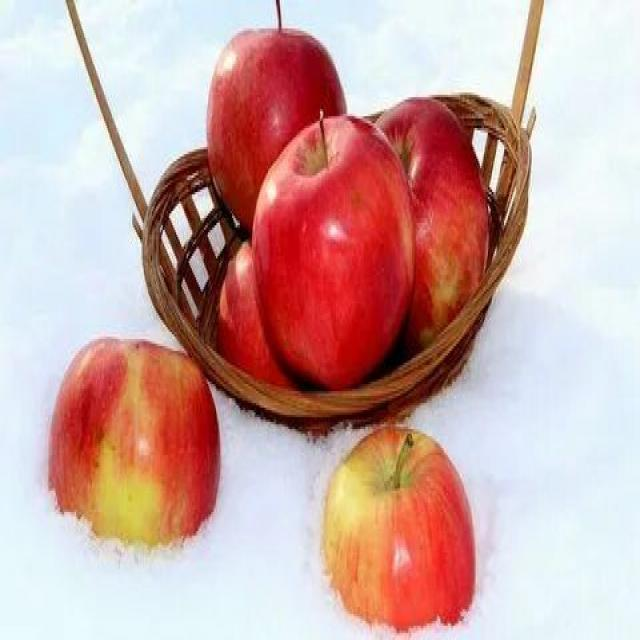Fresh Apple: (248, 112, 418, 400), (58, 324, 212, 562), (316, 424, 480, 640), (204, 14, 334, 204)
